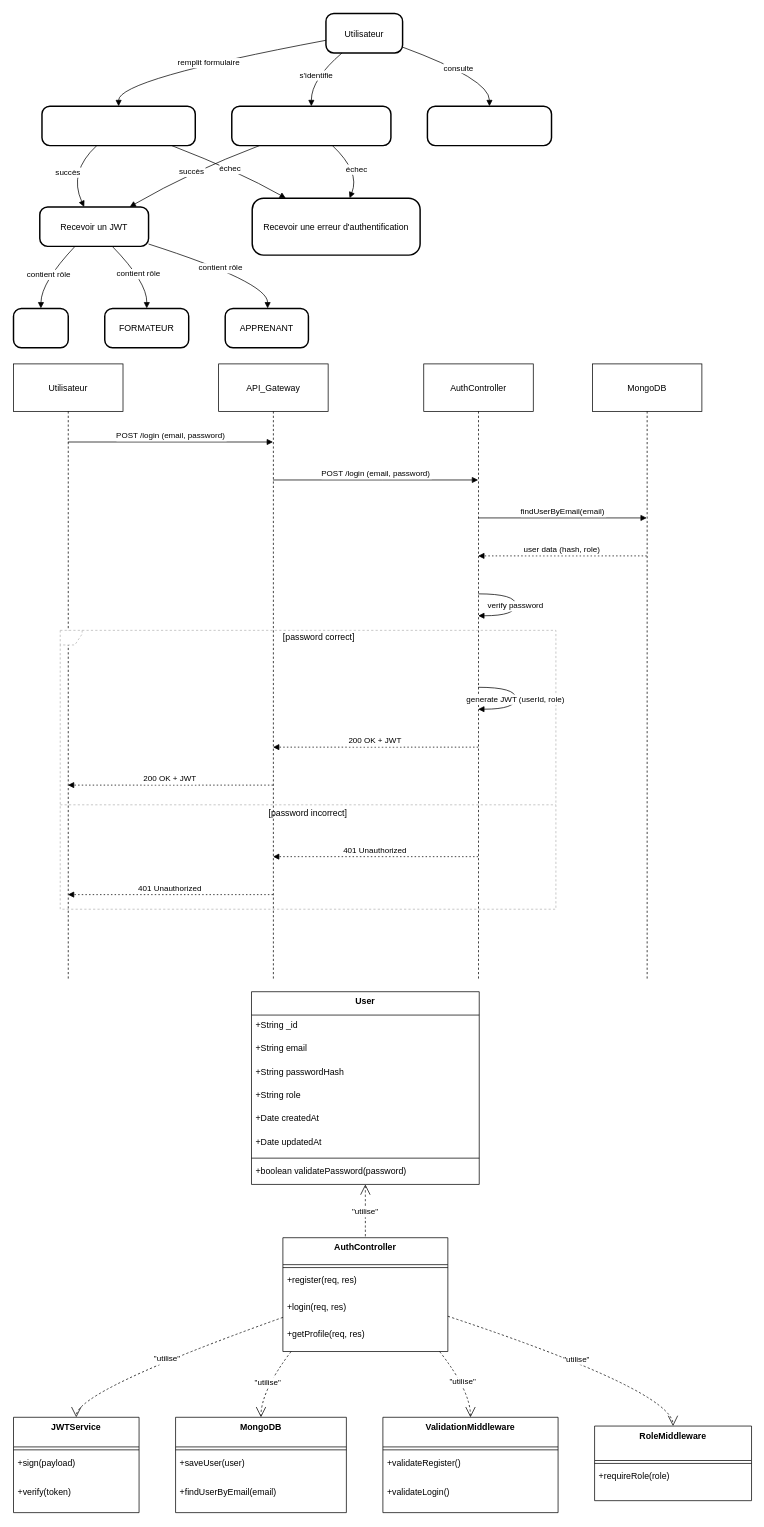
This 764x1527 diagram has some shape labels left out. The centre of each missing label's shape, as x and y in pixels:
ADMIN: point (40, 327)
alt: point (307, 769)
Authentifier un utilisateur: point (311, 125)
Consulter son profil: point (489, 125)
Enregistrer un utilisateur: point (118, 125)
